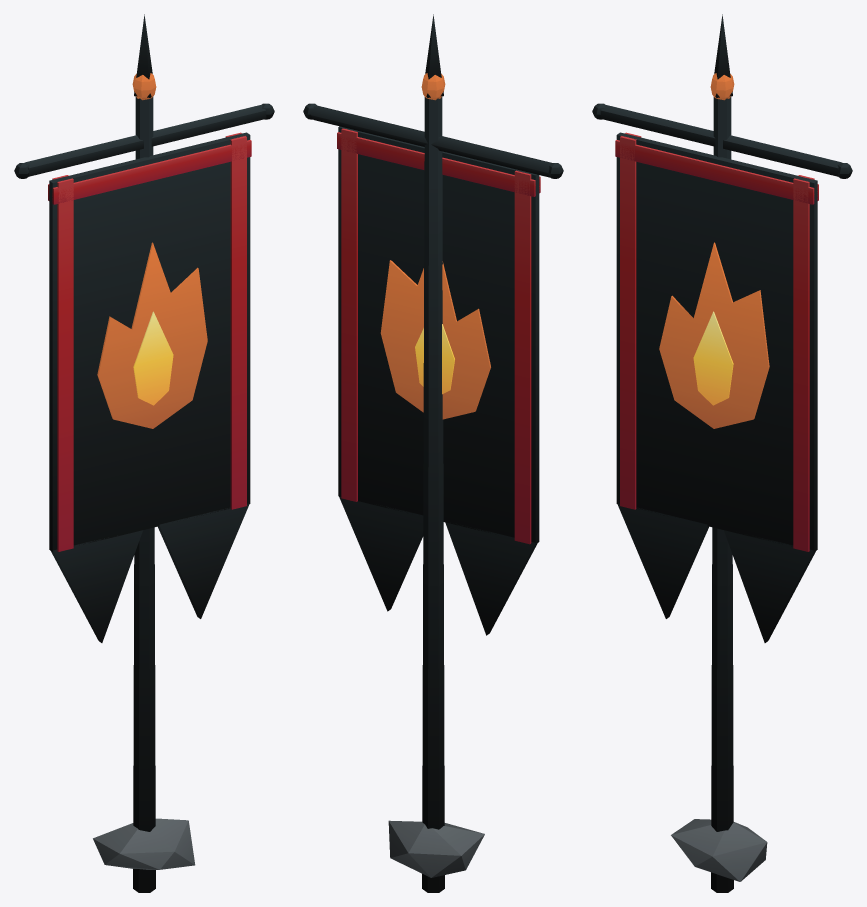
Rendered from ember_banner.glb.
3 renders of one model, left to right at view 1: azimuth 30°, elevation 25°; view 2: azimuth 150°, elevation 25°; view 3: azimuth 330°, elevation 25°, orthographic.
Visible parts, largest first — view 1: ember_banner; view 2: ember_banner; view 3: ember_banner.
Boxes of the visible parts, box(x1,y1,x2,y2) form: ember_banner: box(14, 14, 274, 892); ember_banner: box(303, 14, 563, 892); ember_banner: box(592, 14, 852, 892).
Size of the model in its own units: 1.69 by 5.5 by 0.4677.
Materials: 4 (4 with a texture image).
